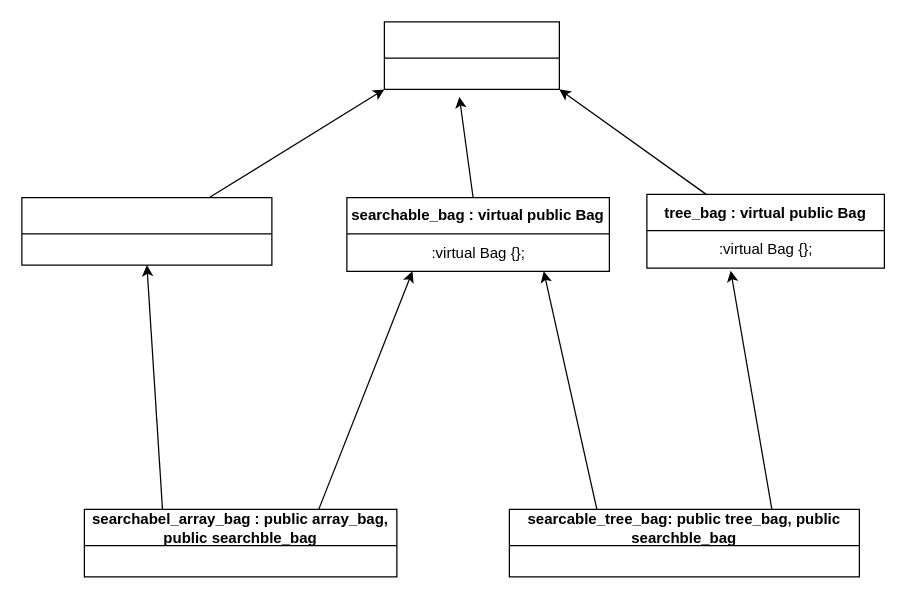
This 906x599 diagram has some shape labels left out. The centre of each missing label's shape, as x and y in pixels:
"array_bag: virual public Bag" belongs at (146,230).
"Bag" belongs at (471,55).
